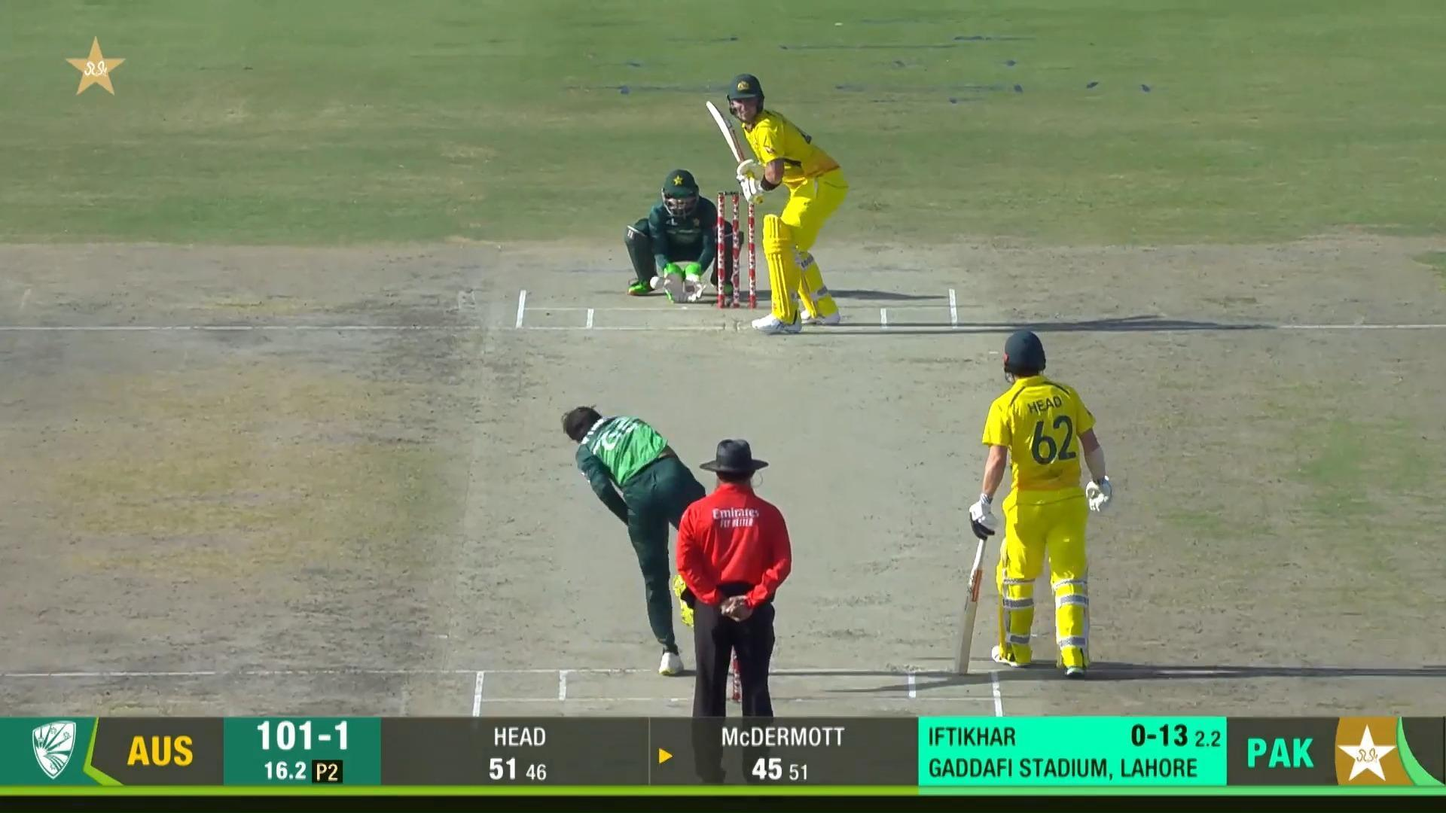BM 1: (704, 72, 849, 334)
BO: (562, 403, 707, 676)
